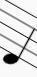note: (2, 2, 36, 67)
